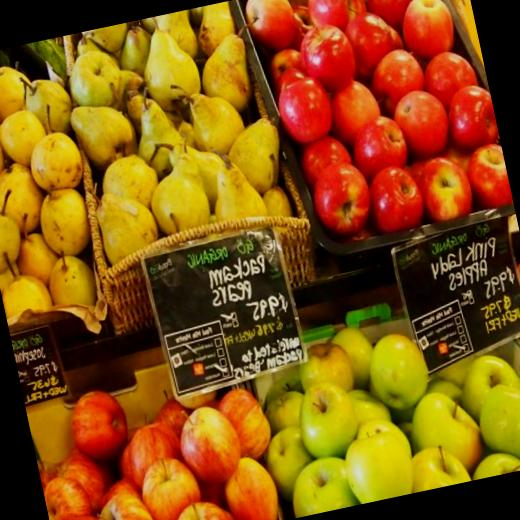Apple: (229, 0, 516, 265), (228, 285, 520, 520), (25, 356, 289, 520)
